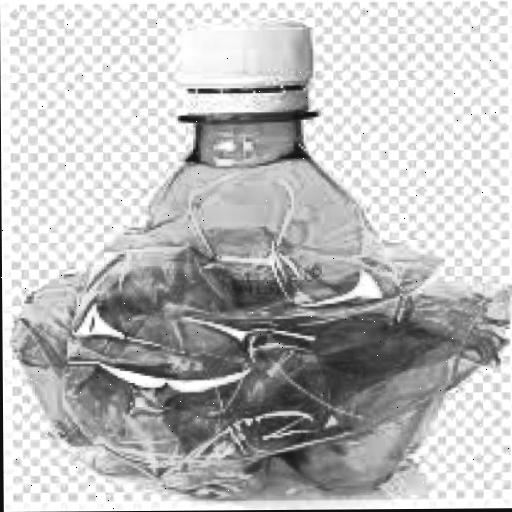ba: (2, 8, 512, 512)
